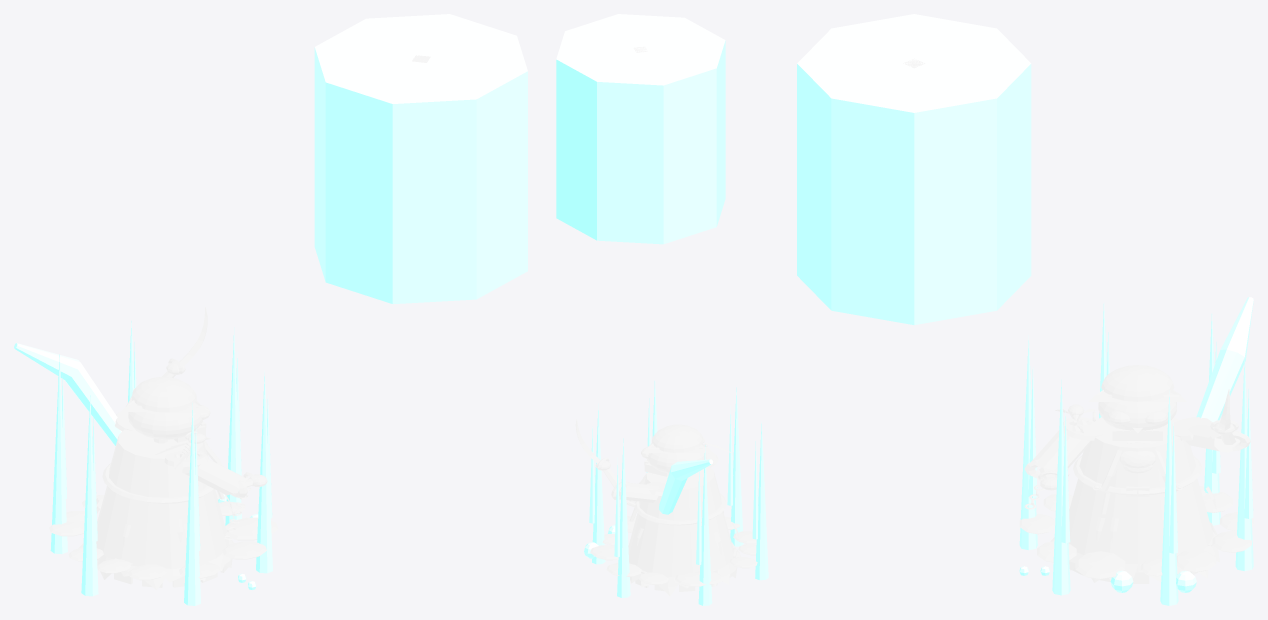
The model's file is maitre-cimetiere-v5.glb.
The picture shows the model from 3 angles, left to right: view 1: azimuth 30°, elevation 25°; view 2: azimuth 150°, elevation 25°; view 3: azimuth 270°, elevation 25°; orthographic projection. The views are drawn at different scales.
Parts seen in each view (by area): view 1: maitre_cimetiere_lanterne_lueur.001, maitre_cimetiere_corps.002, maitre_cimetiere_feux_lueur.001, maitre_cimetiere_lumieres.001; view 2: maitre_cimetiere_lanterne_lueur.001, maitre_cimetiere_corps.002, maitre_cimetiere_feux_lueur.001, maitre_cimetiere_lumieres.001; view 3: maitre_cimetiere_lanterne_lueur.001, maitre_cimetiere_corps.002, maitre_cimetiere_feux_lueur.001, maitre_cimetiere_lumieres.001.
Boxes of the visible parts, x1=… form: maitre_cimetiere_lanterne_lueur.001: x1=314, y1=14, x2=527, y2=304; maitre_cimetiere_corps.002: x1=49, y1=307, x2=278, y2=590; maitre_cimetiere_feux_lueur.001: x1=50, y1=321, x2=272, y2=605; maitre_cimetiere_lumieres.001: x1=14, y1=343, x2=258, y2=589; maitre_cimetiere_lanterne_lueur.001: x1=556, y1=14, x2=725, y2=244; maitre_cimetiere_corps.002: x1=575, y1=419, x2=757, y2=596; maitre_cimetiere_feux_lueur.001: x1=589, y1=381, x2=768, y2=605; maitre_cimetiere_lumieres.001: x1=584, y1=459, x2=712, y2=558; maitre_cimetiere_lanterne_lueur.001: x1=797, y1=14, x2=1031, y2=325; maitre_cimetiere_corps.002: x1=1019, y1=365, x2=1253, y2=592; maitre_cimetiere_feux_lueur.001: x1=1019, y1=303, x2=1253, y2=605; maitre_cimetiere_lumieres.001: x1=1019, y1=297, x2=1253, y2=592.
Bounding box in the file's own units: 3.6 × 5.4 × 3.9.
